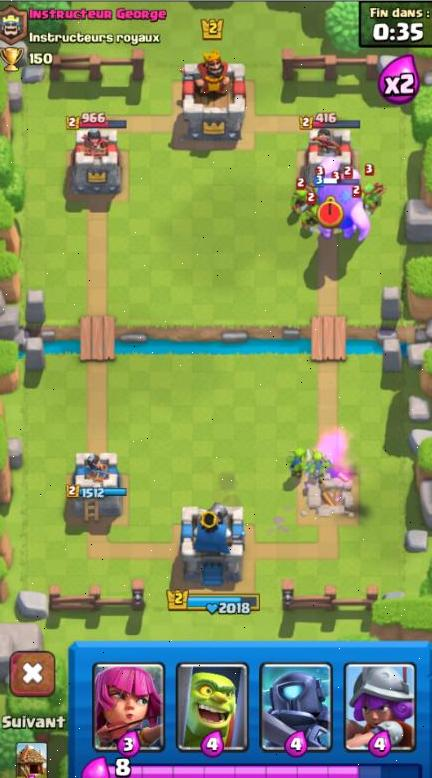enemy_goblins: (286, 181, 317, 219), (298, 200, 325, 237)
enemy_spear_goblins: (357, 169, 388, 208)
player_goblins: (305, 446, 333, 481), (284, 443, 310, 478)
player_knight: (314, 176, 374, 245)
